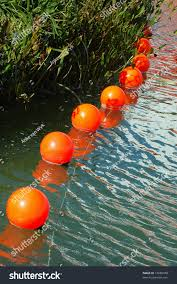buoy: (6, 188, 50, 231), (40, 131, 74, 167), (71, 103, 99, 132), (119, 67, 146, 90), (100, 84, 126, 107), (133, 54, 150, 70), (136, 35, 151, 53)
